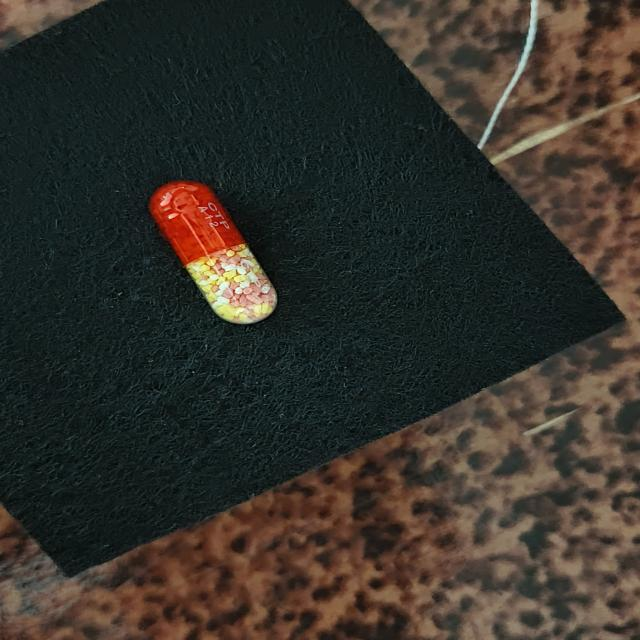Intact Capsule: (149, 181, 277, 324)
